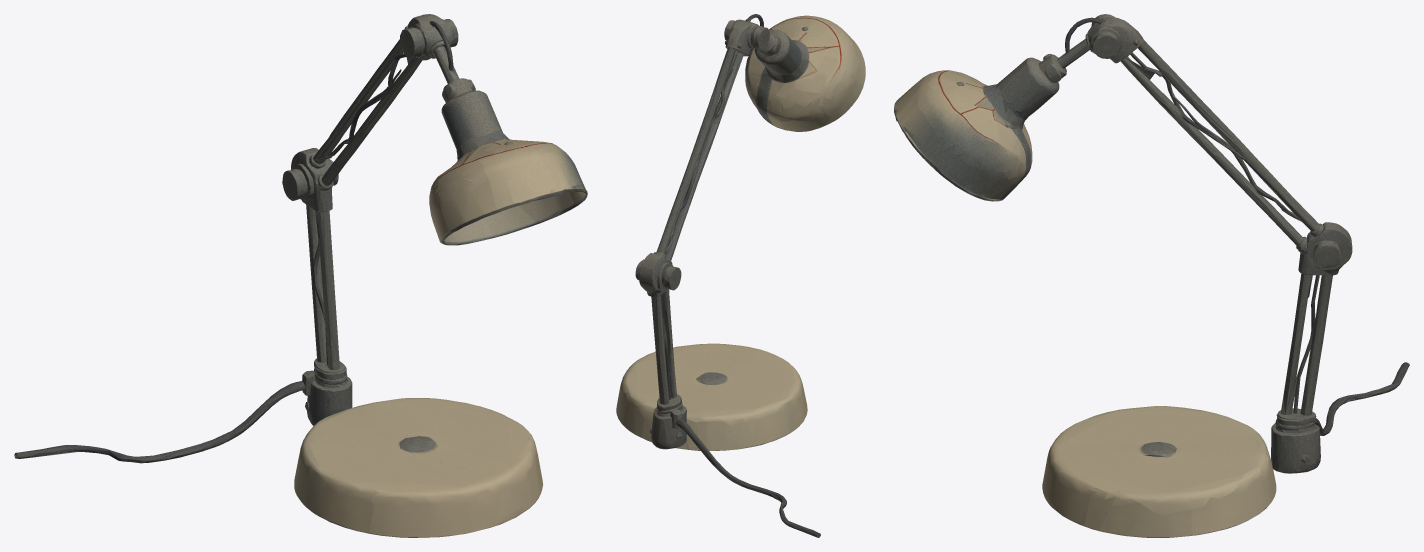
The model's file is lampada_tavolo_A.glb.
3 views of the same model, side by side, from view 1: azimuth 30°, elevation 25°; view 2: azimuth 150°, elevation 25°; view 3: azimuth 270°, elevation 25° (orthographic). The views are drawn at different scales.
Size of the model in its own units: 1.52 by 1.89 by 1.9.
1 material, 1 textured.
